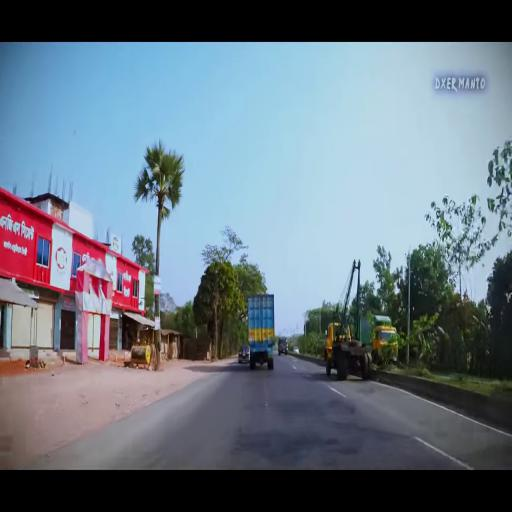car: (238, 345, 250, 367)
truck: (325, 257, 375, 384), (247, 294, 277, 372), (278, 337, 290, 357)
